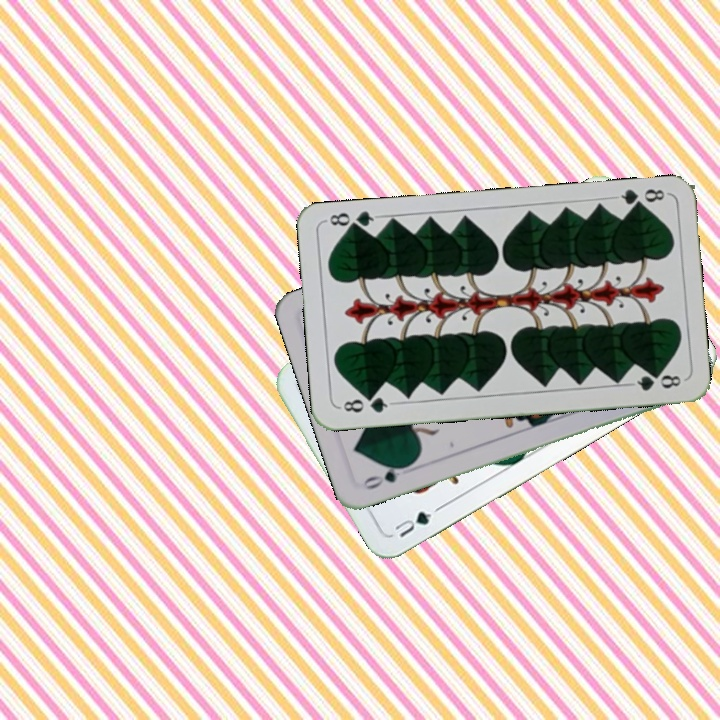G8: (610, 185, 670, 213), (336, 392, 395, 416)
GO: (358, 460, 414, 492)
GU: (390, 507, 435, 540)
